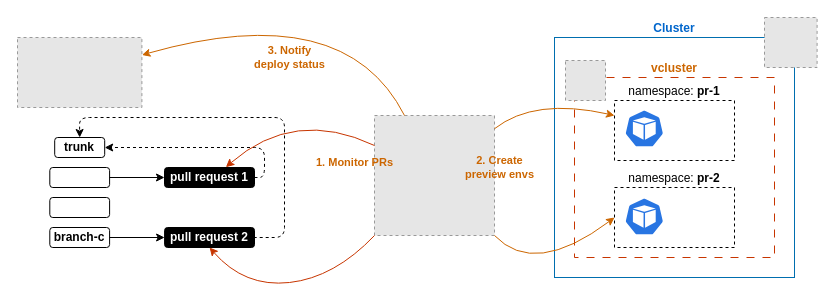
Some shapes in this 835 by 301 pixel diagram are drawn without their labels. Grey dashed boxes stand in for pictures. The box of each missing label's shape, as (x1, y1, x2, y2) in pixels:
app-pr-1: (624, 108, 664, 148)
app-pr-2: (624, 196, 664, 236)
branch-a: (49, 166, 110, 188)
branch-b: (49, 196, 110, 218)
